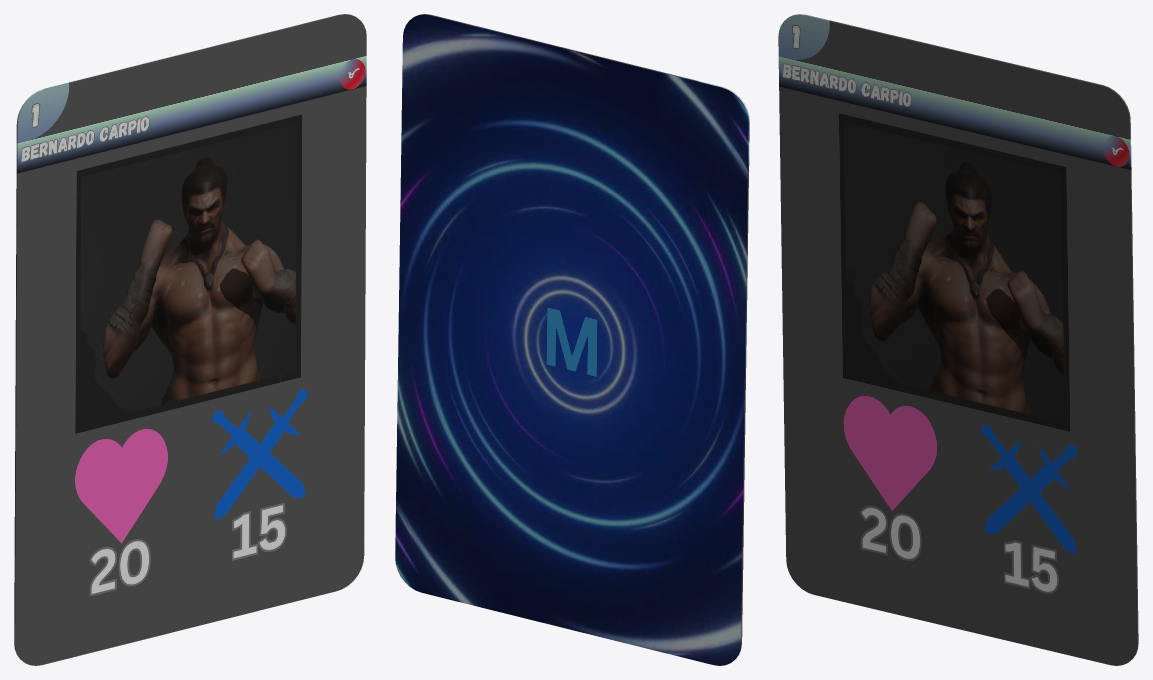
Rendered from Bernardo Carpio.glb.
3 renders of one model, left to right at view 1: azimuth 30°, elevation 25°; view 2: azimuth 150°, elevation 25°; view 3: azimuth 330°, elevation 25°, orthographic.
Visible parts, largest first — view 1: Card; view 2: Card; view 3: Card.
Part boxes in pixels (x1,y1,x2,y2): Card: [14, 14, 366, 665]; Card: [395, 14, 749, 665]; Card: [778, 14, 1138, 665].
Size of the model in its own units: 0.0564 by 0.0891 by 0.00197.
2 materials, 2 textured.
